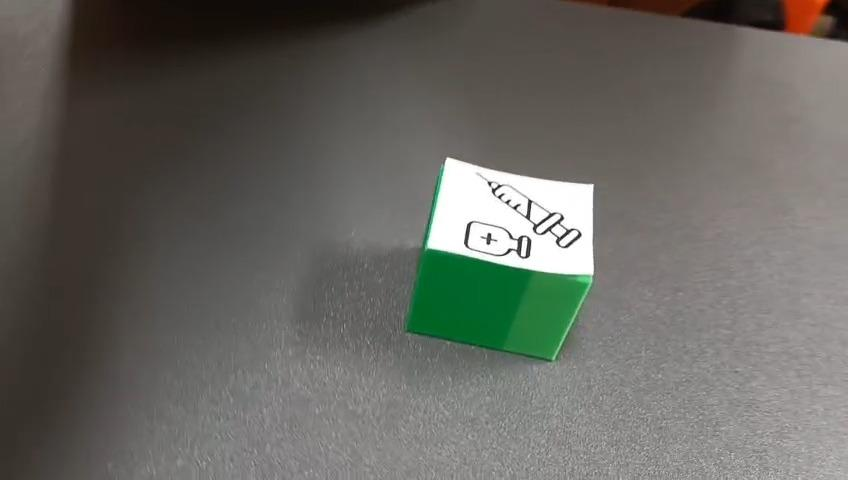antiseptic cream: (403, 155, 596, 362)
